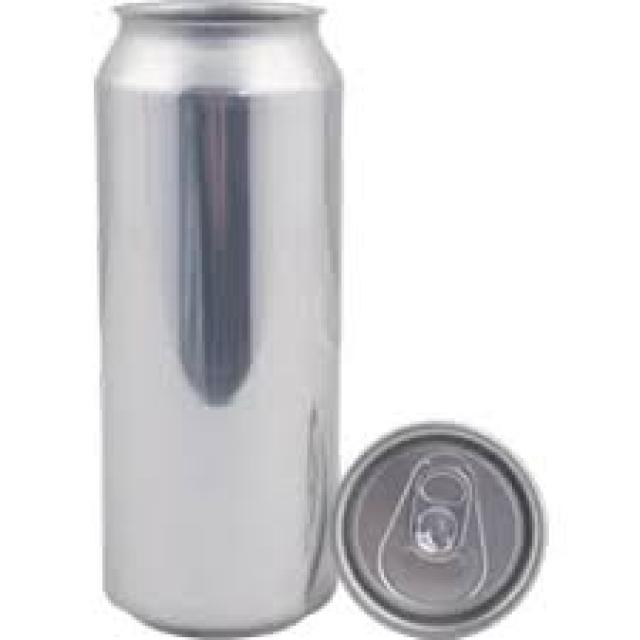Cans: (94, 3, 347, 637)
